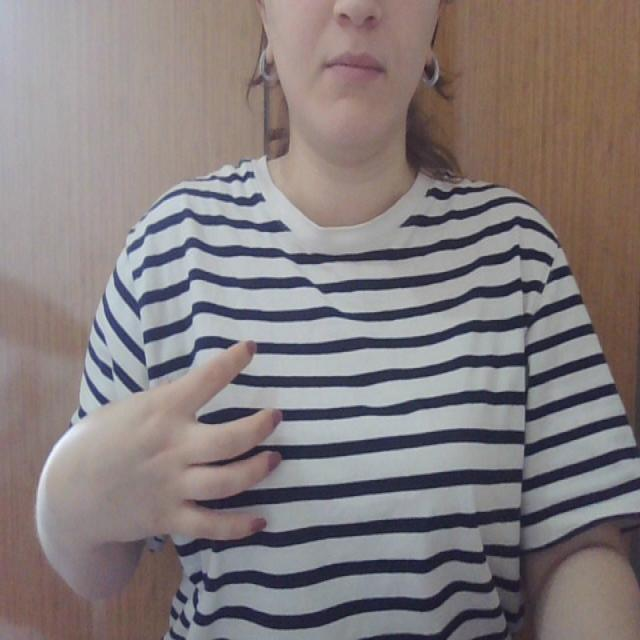Anne: (85, 337, 288, 543)
